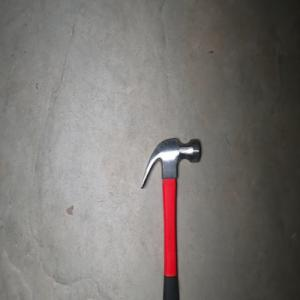Hammer: (139, 136, 201, 300)
